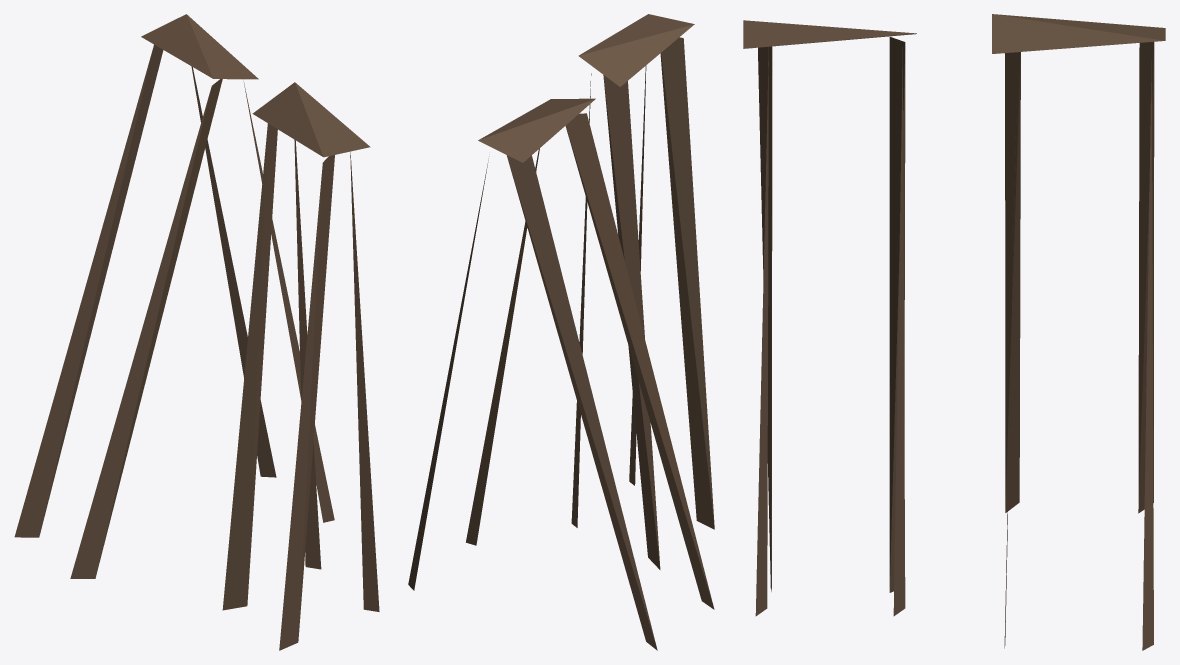
The model's file is old-ladder.lod2.glb.
3 views of the same model, side by side, from view 1: azimuth 30°, elevation 25°; view 2: azimuth 150°, elevation 25°; view 3: azimuth 270°, elevation 25° (orthographic). The views are drawn at different scales.
Parts seen in each view (by area): view 1: Object_2; view 2: Object_2; view 3: Object_2.
Part boxes in pixels (left/top/right/bottom): Object_2: left=14, top=14, right=379, bottom=650; Object_2: left=408, top=14, right=714, bottom=650; Object_2: left=743, top=14, right=1165, bottom=650.
Bounding box in the file's own units: 1.71 × 3.2 × 2.05.
